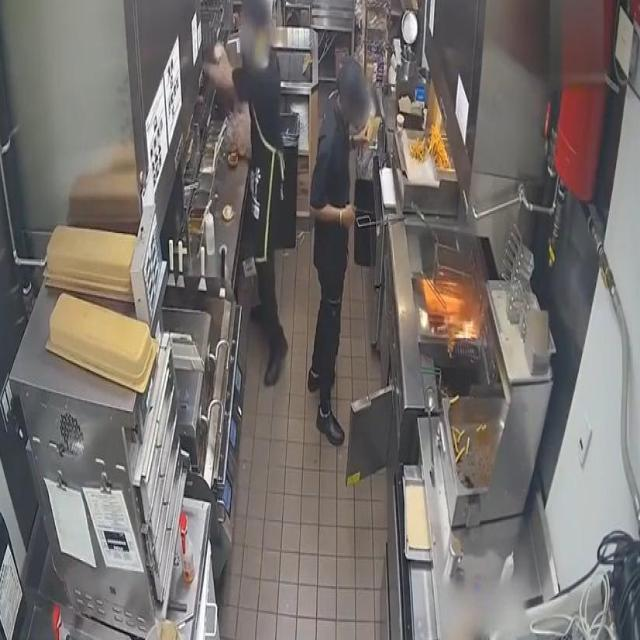smoke: (450, 312, 481, 341)
